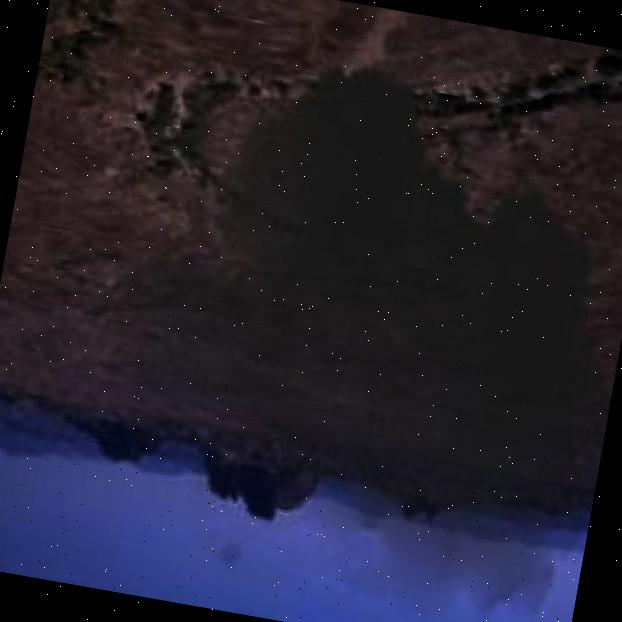smoke: (50, 4, 622, 622)
